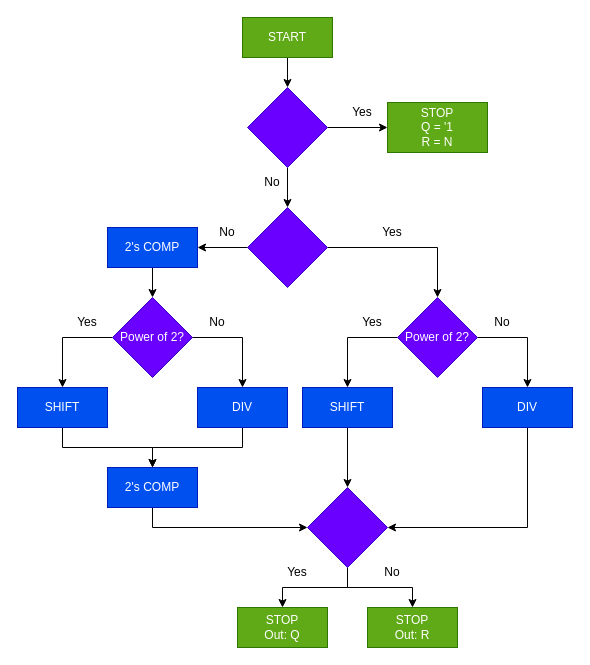
The diagram is 590 pixels wide and 665 high, and some of its shapes have lost their labels. The centre of each missing label's shape, as x and y in pixels:
D = 0?: the point at 287,127
Q?: the point at 347,527
Unsigned?: the point at 287,247
